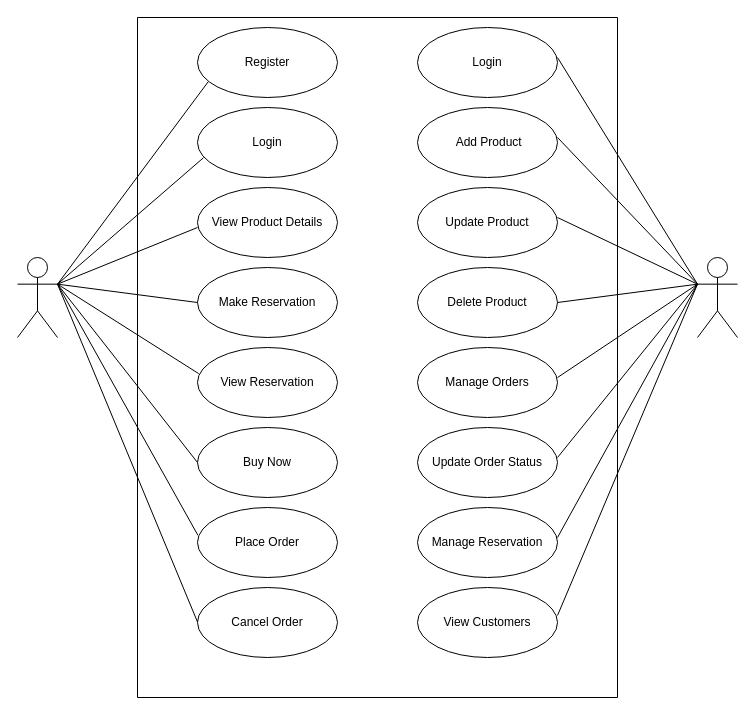
This 755x723 diagram has some shape labels left out. Each missing label, with the centre of its shape:
"Admin" belongs at pixel 717 297.
"User" belongs at pixel 37 297.
